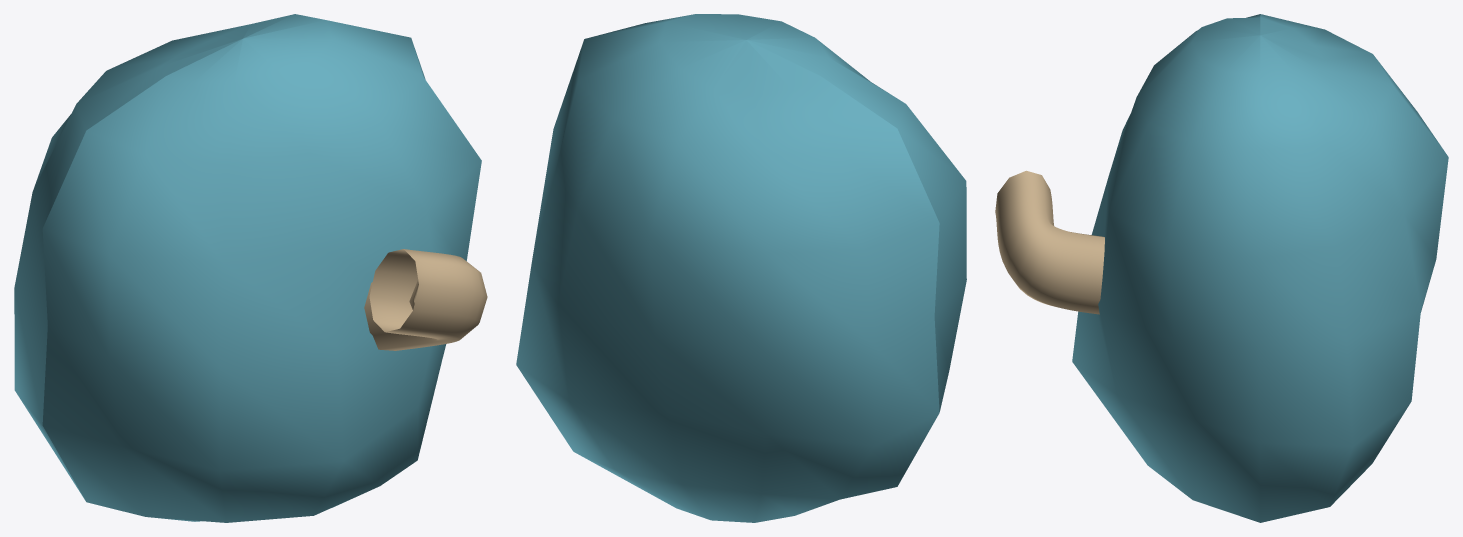
Rendered from right_hamate.glb.
3 views of the same model, side by side, from view 1: azimuth 30°, elevation 25°; view 2: azimuth 150°, elevation 25°; view 3: azimuth 270°, elevation 25° (orthographic). The views are drawn at different scales.
Visible parts, largest first — view 1: right_hamate:body, right_hamate:hook; view 2: right_hamate:body; view 3: right_hamate:body, right_hamate:hook.
Boxes of the visible parts, x1,y1,x2,y2 form: right_hamate:body: (14,14,481,522); right_hamate:hook: (364,249,487,350); right_hamate:body: (516,14,966,522); right_hamate:body: (1072,14,1448,522); right_hamate:hook: (995,170,1104,314).
Bounding box in the file's own units: 0.0514 × 0.0588 × 0.0539.
